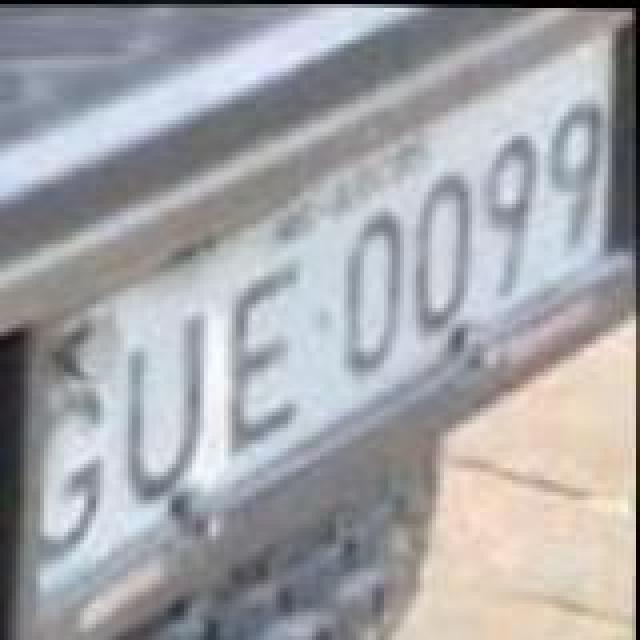9: (534, 98, 610, 258), (474, 136, 542, 300)
E: (222, 260, 302, 452)
G: (38, 386, 114, 550)
O: (340, 212, 408, 372), (410, 172, 478, 332)
U: (124, 310, 212, 498)
